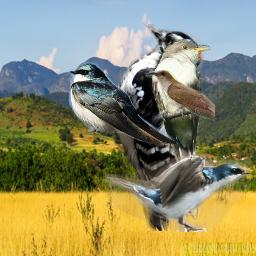Cuckoo: (152, 38, 211, 220), (145, 70, 215, 121)
Swallow: (103, 153, 251, 232), (68, 62, 178, 148)
Woodpecker: (108, 24, 206, 231)
